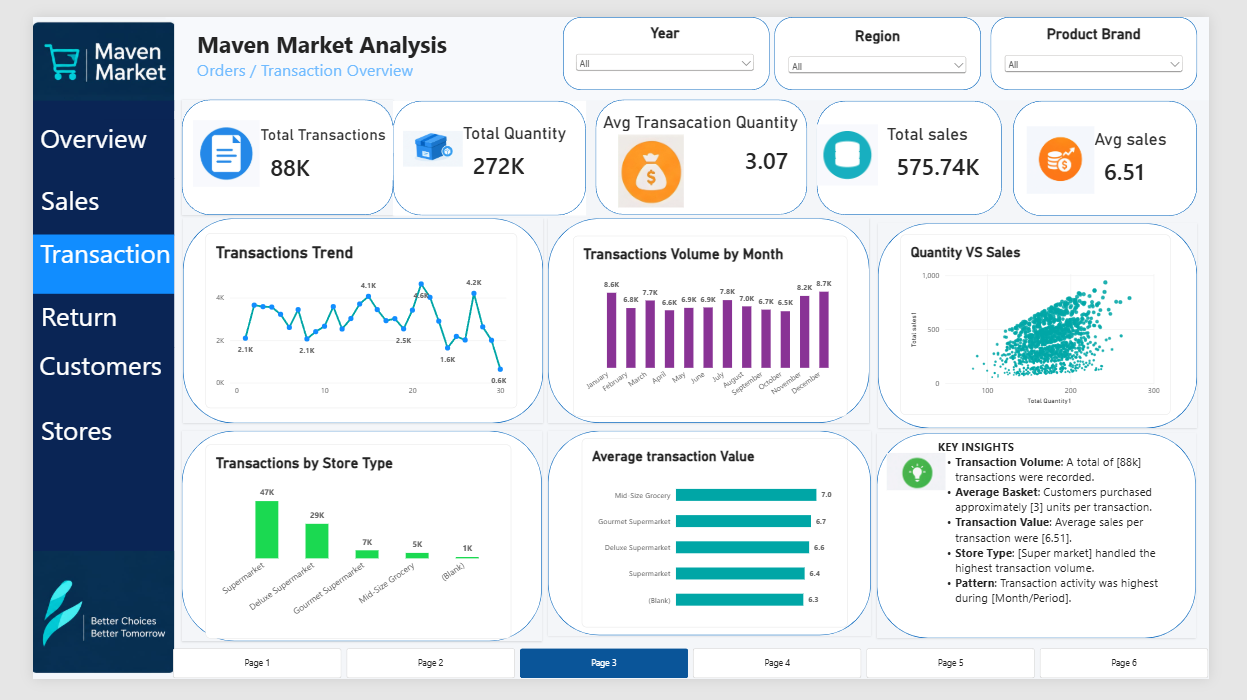

The dashboard page shown, as its layout file describes it:
{"tool":"powerbi","page":{"name":"Page 3","canvas":[1920,1080],"ordinal":2},"visuals":[{"type":"textbox","title":"Maven Market Analysis ","box":[215.7,0,1704.3,135.8],"z":0},{"type":"image","box":[0,0,230.5,156.4],"z":1},{"type":"textbox","box":[0,135.8,230.5,749.2],"z":2},{"type":"image","box":[0,870.1,230.5,209.9],"z":3},{"type":"textbox","box":[0,166.7,230.5,96.7],"z":4},{"type":"textbox","box":[0,263.5,230.5,92.6],"z":5},{"type":"textbox","box":[0,356.1,230.5,96.7],"z":6},{"type":"textbox","box":[0,452.8,230.5,86.4],"z":7},{"type":"textbox","box":[0,539.3,230.5,98.8],"z":8},{"type":"textbox","box":[0,638.1,230.5,100.9],"z":9},{"type":"shape","box":[864.5,0,337.6,119.4],"z":10},{"type":"slicer","title":"Year","fields":{"Values":["sales.transaction year"]},"box":[881,12.3,300.5,88.5],"z":12},{"type":"shape","box":[1210.3,0,337.6,119.4],"z":13},{"type":"slicer","title":"Region","fields":{"Values":["MavenMarket_Regions.sales_district"]},"box":[1228.8,16.5,300.5,88.5],"z":14},{"type":"shape","box":[1562.3,0,337.6,119.4],"z":15},{"type":"slicer","title":"Product Brand","fields":{"Values":["MavenMarket_Products.product_brand"]},"box":[1580.8,14.4,300.5,88.5],"z":16},{"type":"shape","box":[243.2,134.1,345.5,188.6],"z":17},{"type":"shape","box":[588.1,135.7,314.9,187.3],"z":18},{"type":"shape","box":[917.5,133.9,345.6,188.2],"z":19},{"type":"shape","box":[1279.5,136.4,302.3,186.4],"z":20},{"type":"shape","box":[1599.7,135.7,300.4,188.2],"z":21},{"type":"cardVisual","title":"Total Transactions","fields":{"Data":["sales.Total Transactions1"]},"box":[370.5,177.3,217.2,88.7],"z":22},{"type":"cardVisual","title":"Total Quantity","fields":{"Data":["sales.Total Quantity1"]},"box":[702.1,173.7,179.1,88.5],"z":23},{"type":"cardVisual","title":"Avg Transacation Quantity","fields":{"Data":["sales.Average Transaction Quantity1"]},"box":[930.2,155.6,318.5,108.6],"z":24},{"type":"cardVisual","title":"Total sales ","fields":{"Data":["sales.Total sales1"]},"box":[1393.4,175.5,168.3,88.7],"z":25},{"type":"cardVisual","title":"Avg sales ","fields":{"Data":["sales.Average sales per transaction1"]},"box":[1731.8,184.6,150.2,88.7],"z":26},{"type":"shape","box":[245.5,329.5,588.1,334.8],"z":28},{"type":"lineChart","title":" Transactions Trend","fields":{"Category":["sales.transaction_date.Variation.Date Hierarchy.Day"],"Y":["sales.Total Transactions1"]},"box":[282.3,352.9,508.5,285.9],"z":29},{"type":"shape","box":[840.9,329.5,525,334.1],"z":30},{"type":"clusteredColumnChart","title":"Transactions Volume by Month","fields":{"Category":["sales.transaction_date.Variation.Date Hierarchy.Month"],"Y":["sales.Total Transactions1"]},"box":[881.8,356.8,447.7,295.5],"z":31},{"type":"shape","box":[1379,336.6,521.2,334.8],"z":32},{"type":"scatterChart","title":"Quantity VS Sales","fields":{"Category":["MavenMarket_Products.product_name"],"Size":["sales.Total sales1"],"X":["sales.Total Quantity1"],"Y":["sales.Total sales1"]},"box":[1416.1,356.1,440.5,294.3],"z":33},{"type":"shape","box":[243.2,675,588.1,343.8],"z":34},{"type":"clusteredColumnChart","title":"Transactions by Store Type","fields":{"Category":["MavenMarket_Stores.store_type"],"Y":["sales.Total Transactions1"]},"box":[282.3,698.5,499.5,316.7],"z":35},{"type":"shape","box":[840.9,675,527.3,334.1],"z":36},{"type":"clusteredBarChart","title":"Average  transaction Value","fields":{"Category":["MavenMarket_Stores.store_type"],"Y":["sales.Average sales per transaction1"]},"box":[895.5,688.6,434.1,309.1],"z":37},{"type":"shape","box":[1377.2,680.4,521.2,334.8],"z":38},{"type":"pageNavigator","box":[228.1,1030.6,1691.9,49.4],"z":39},{"type":"image","box":[1279.5,159.1,100,131.8],"z":40},{"type":"image","box":[261.4,161.4,109.1,122.7],"z":41},{"type":"image","box":[604.5,156.8,97.7,115.9],"z":42},{"type":"image","box":[948.9,191.4,119.4,119.4],"z":43},{"type":"image","box":[1622,177,110.4,112.2],"z":44},{"type":"textbox","box":[1477.1,688.6,380,310],"z":45},{"type":"image","box":[1392.9,688.6,95.7,108.6],"z":46}]}

Visuals, with their boxes in screenshot pixels (x1, y1, x2, y2), scaled from the page's 1920x1080 canvas onto the 1247x700 screenshot:
"Maven Market Analysis " textbox: pyautogui.locateOnScreen(140, 0, 1246, 88)
image: pyautogui.locateOnScreen(0, 0, 150, 101)
textbox: pyautogui.locateOnScreen(0, 88, 150, 574)
image: pyautogui.locateOnScreen(0, 564, 150, 699)
textbox: pyautogui.locateOnScreen(0, 108, 150, 171)
textbox: pyautogui.locateOnScreen(0, 171, 150, 231)
textbox: pyautogui.locateOnScreen(0, 231, 150, 293)
textbox: pyautogui.locateOnScreen(0, 293, 150, 349)
textbox: pyautogui.locateOnScreen(0, 350, 150, 414)
textbox: pyautogui.locateOnScreen(0, 414, 150, 479)
shape: pyautogui.locateOnScreen(561, 0, 781, 77)
"Year" slicer: pyautogui.locateOnScreen(572, 8, 767, 65)
shape: pyautogui.locateOnScreen(786, 0, 1005, 77)
"Region" slicer: pyautogui.locateOnScreen(798, 11, 993, 68)
shape: pyautogui.locateOnScreen(1015, 0, 1234, 77)
"Product Brand" slicer: pyautogui.locateOnScreen(1027, 9, 1222, 67)
shape: pyautogui.locateOnScreen(158, 87, 382, 209)
shape: pyautogui.locateOnScreen(382, 88, 586, 209)
shape: pyautogui.locateOnScreen(596, 87, 820, 209)
shape: pyautogui.locateOnScreen(831, 88, 1027, 209)
shape: pyautogui.locateOnScreen(1039, 88, 1234, 210)
"Total Transactions" cardVisual: pyautogui.locateOnScreen(241, 115, 382, 172)
"Total Quantity" cardVisual: pyautogui.locateOnScreen(456, 113, 572, 170)
"Avg Transacation Quantity" cardVisual: pyautogui.locateOnScreen(604, 101, 811, 171)
"Total sales " cardVisual: pyautogui.locateOnScreen(905, 114, 1014, 171)
"Avg sales " cardVisual: pyautogui.locateOnScreen(1125, 120, 1222, 177)
shape: pyautogui.locateOnScreen(159, 214, 541, 431)
" Transactions Trend" lineChart: pyautogui.locateOnScreen(183, 229, 514, 414)
shape: pyautogui.locateOnScreen(546, 214, 887, 430)
"Transactions Volume by Month" clusteredColumnChart: pyautogui.locateOnScreen(573, 231, 863, 423)
shape: pyautogui.locateOnScreen(896, 218, 1234, 435)
"Quantity VS Sales" scatterChart: pyautogui.locateOnScreen(920, 231, 1206, 422)
shape: pyautogui.locateOnScreen(158, 438, 540, 660)
"Transactions by Store Type" clusteredColumnChart: pyautogui.locateOnScreen(183, 453, 508, 658)
shape: pyautogui.locateOnScreen(546, 438, 889, 654)
"Average  transaction Value" clusteredBarChart: pyautogui.locateOnScreen(582, 446, 864, 647)
shape: pyautogui.locateOnScreen(894, 441, 1233, 658)
pageNavigator: pyautogui.locateOnScreen(148, 668, 1246, 699)
image: pyautogui.locateOnScreen(831, 103, 896, 189)
image: pyautogui.locateOnScreen(170, 105, 241, 184)
image: pyautogui.locateOnScreen(393, 102, 456, 177)
image: pyautogui.locateOnScreen(616, 124, 694, 201)
image: pyautogui.locateOnScreen(1053, 115, 1125, 187)
textbox: pyautogui.locateOnScreen(959, 446, 1206, 647)
image: pyautogui.locateOnScreen(905, 446, 967, 517)
